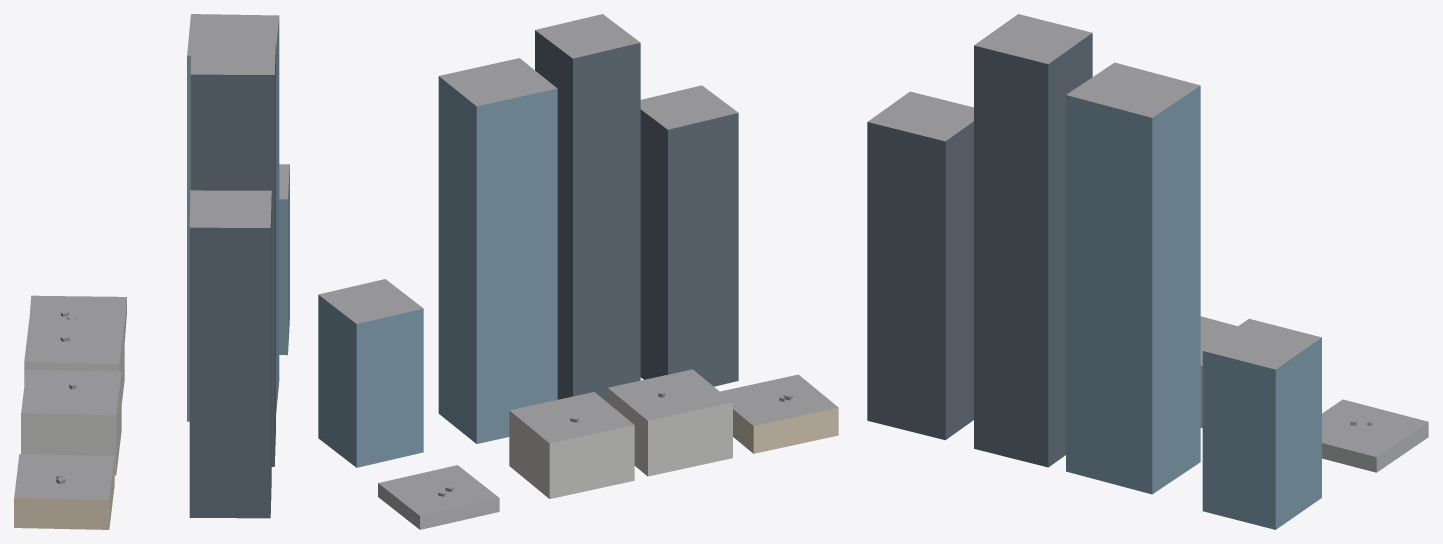
Rendered from building_-1_-7.glb.
The picture shows the model from 3 angles, left to right: view 1: azimuth 30°, elevation 25°; view 2: azimuth 150°, elevation 25°; view 3: azimuth 270°, elevation 25°; orthographic projection. The views are drawn at different scales.
Visible parts, largest first — view 1: glass_dark, roof, concrete_light, glass_blue, sandstone; view 2: glass_dark, glass_blue, roof, concrete_light, sandstone, industrial; view 3: glass_dark, glass_blue, roof, industrial.
Part boxes in pixels (x1=…): glass_dark: x1=189, y1=44, x2=275, y2=518; roof: x1=14, y1=14, x2=289, y2=499; concrete_light: x1=21, y1=321, x2=124, y2=475; glass_blue: x1=187, y1=17, x2=289, y2=421; sandstone: x1=14, y1=456, x2=114, y2=529; glass_dark: x1=535, y1=30, x2=738, y2=402; glass_blue: x1=318, y1=76, x2=557, y2=467; roof: x1=318, y1=14, x2=838, y2=515; concrete_light: x1=509, y1=388, x2=732, y2=498; sandstone: x1=733, y1=407, x2=838, y2=453; industrial: x1=378, y1=483, x2=499, y2=529; glass_dark: x1=867, y1=33, x2=1092, y2=467; glass_blue: x1=1066, y1=86, x2=1321, y2=529; roof: x1=868, y1=14, x2=1427, y2=456; industrial: x1=1322, y1=422, x2=1428, y2=472.
Size of the model in its own units: 186 by 166 by 209.
